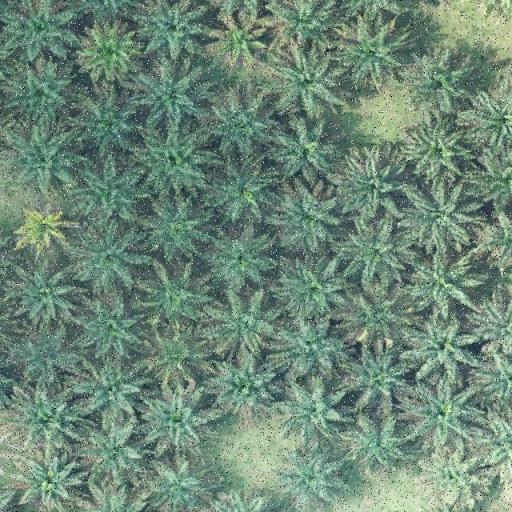Ganoderma: (22, 205, 65, 246)
